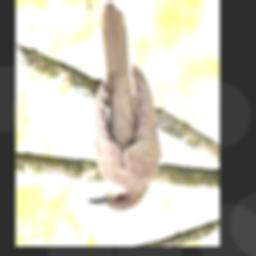Cuckoo: (87, 2, 160, 212)
